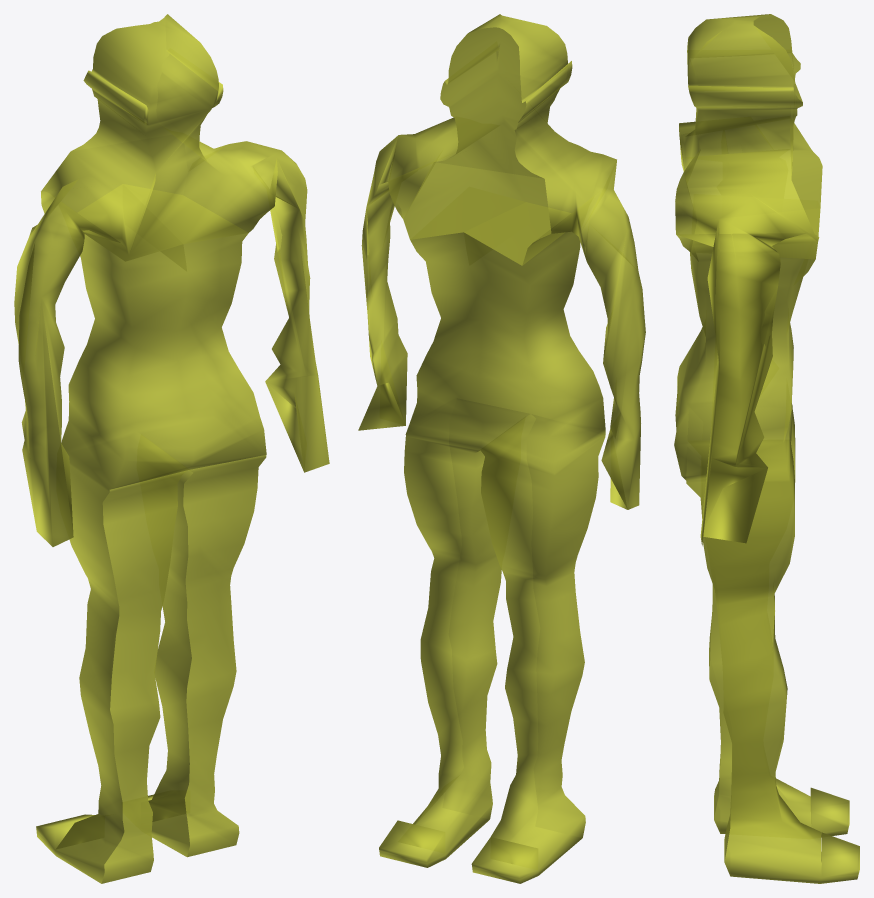
File: woman_000044.obj
The picture shows the model from 3 angles, left to right: view 1: azimuth 30°, elevation 25°; view 2: azimuth 150°, elevation 25°; view 3: azimuth 270°, elevation 25°; orthographic projection. The views are drawn at different scales.
Parts seen in each view (by area): view 1: Cube_Cube.001; view 2: Cube_Cube.001; view 3: Cube_Cube.001.
Boxes of the visible parts, x1,y1,x2,y2 form: Cube_Cube.001: (14, 14, 329, 883); Cube_Cube.001: (358, 14, 645, 883); Cube_Cube.001: (674, 14, 859, 883).
Bounding box in the file's own units: 3.62 × 10 × 2.03.
